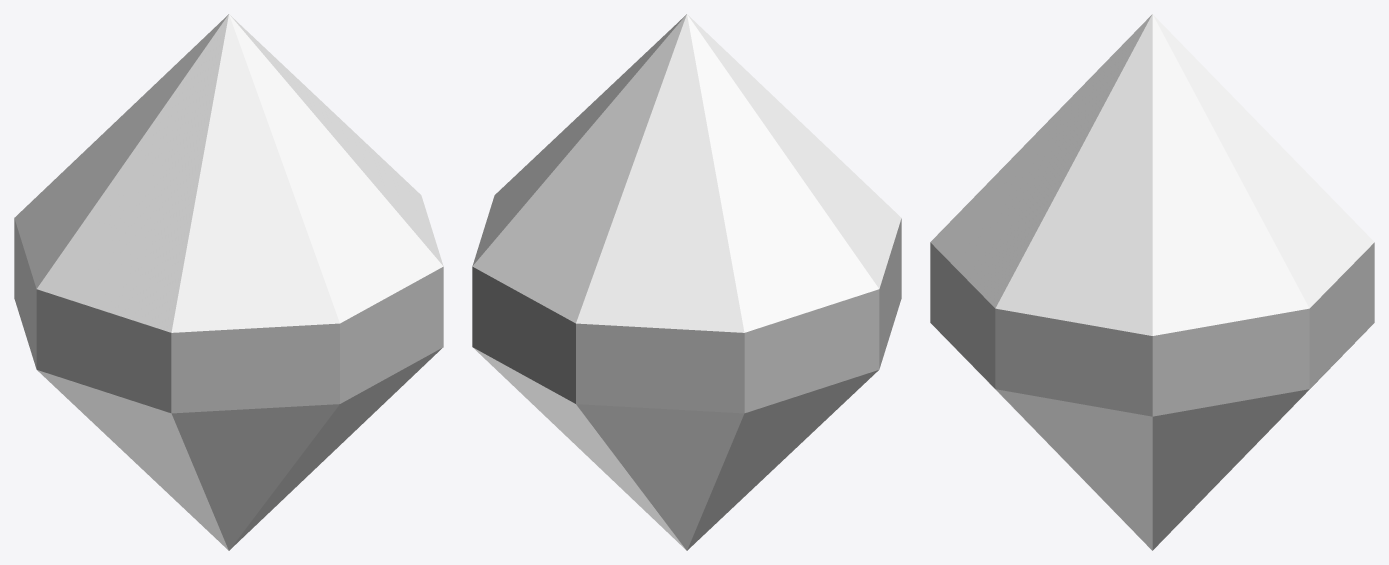
The model's file is railMarker.obj.
3 renders of one model, left to right at view 1: azimuth 30°, elevation 25°; view 2: azimuth 150°, elevation 25°; view 3: azimuth 270°, elevation 25°, orthographic.
Visible parts, largest first — view 1: railMarker; view 2: railMarker; view 3: railMarker.
Boxes of the visible parts, left/top/right/bottom form: railMarker: left=14, top=14, right=443, bottom=550; railMarker: left=472, top=14, right=901, bottom=550; railMarker: left=930, top=14, right=1374, bottom=550.
Bounding box in the file's own units: 1.5 × 2 × 1.5.
Materials: 1 (1 with a texture image).
